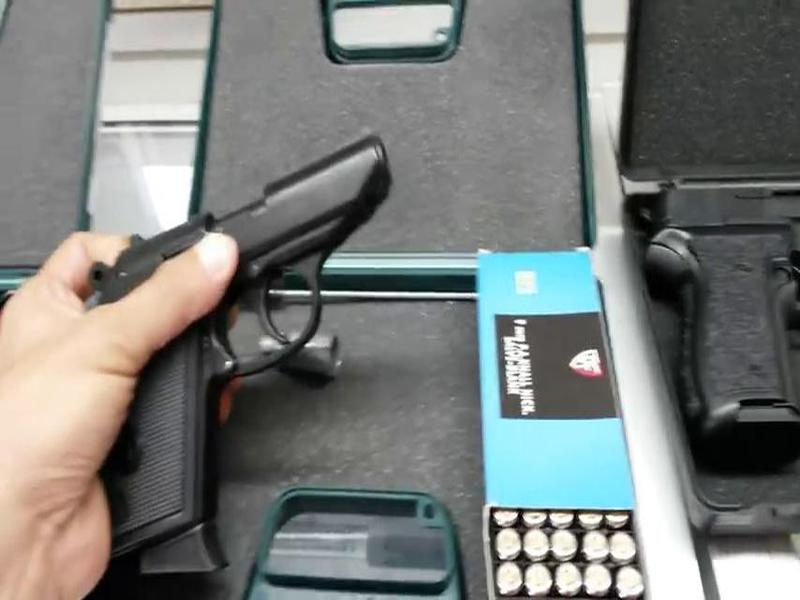Pistola: (70, 169, 437, 510)
